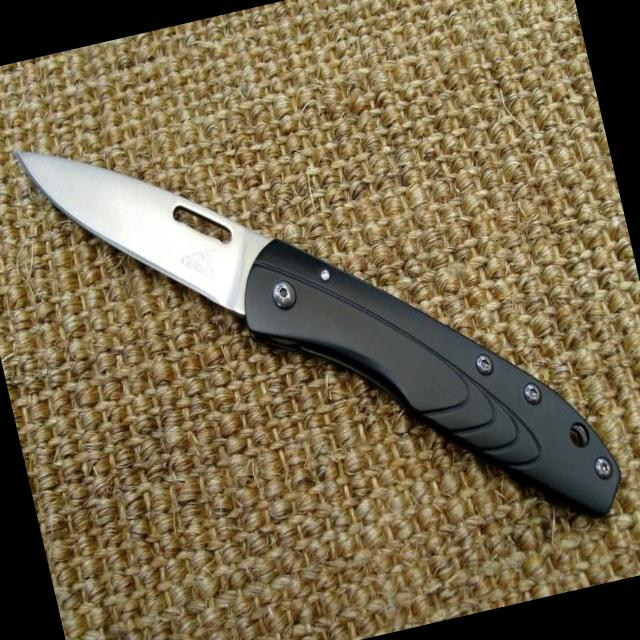Knife: (18, 152, 620, 512)
